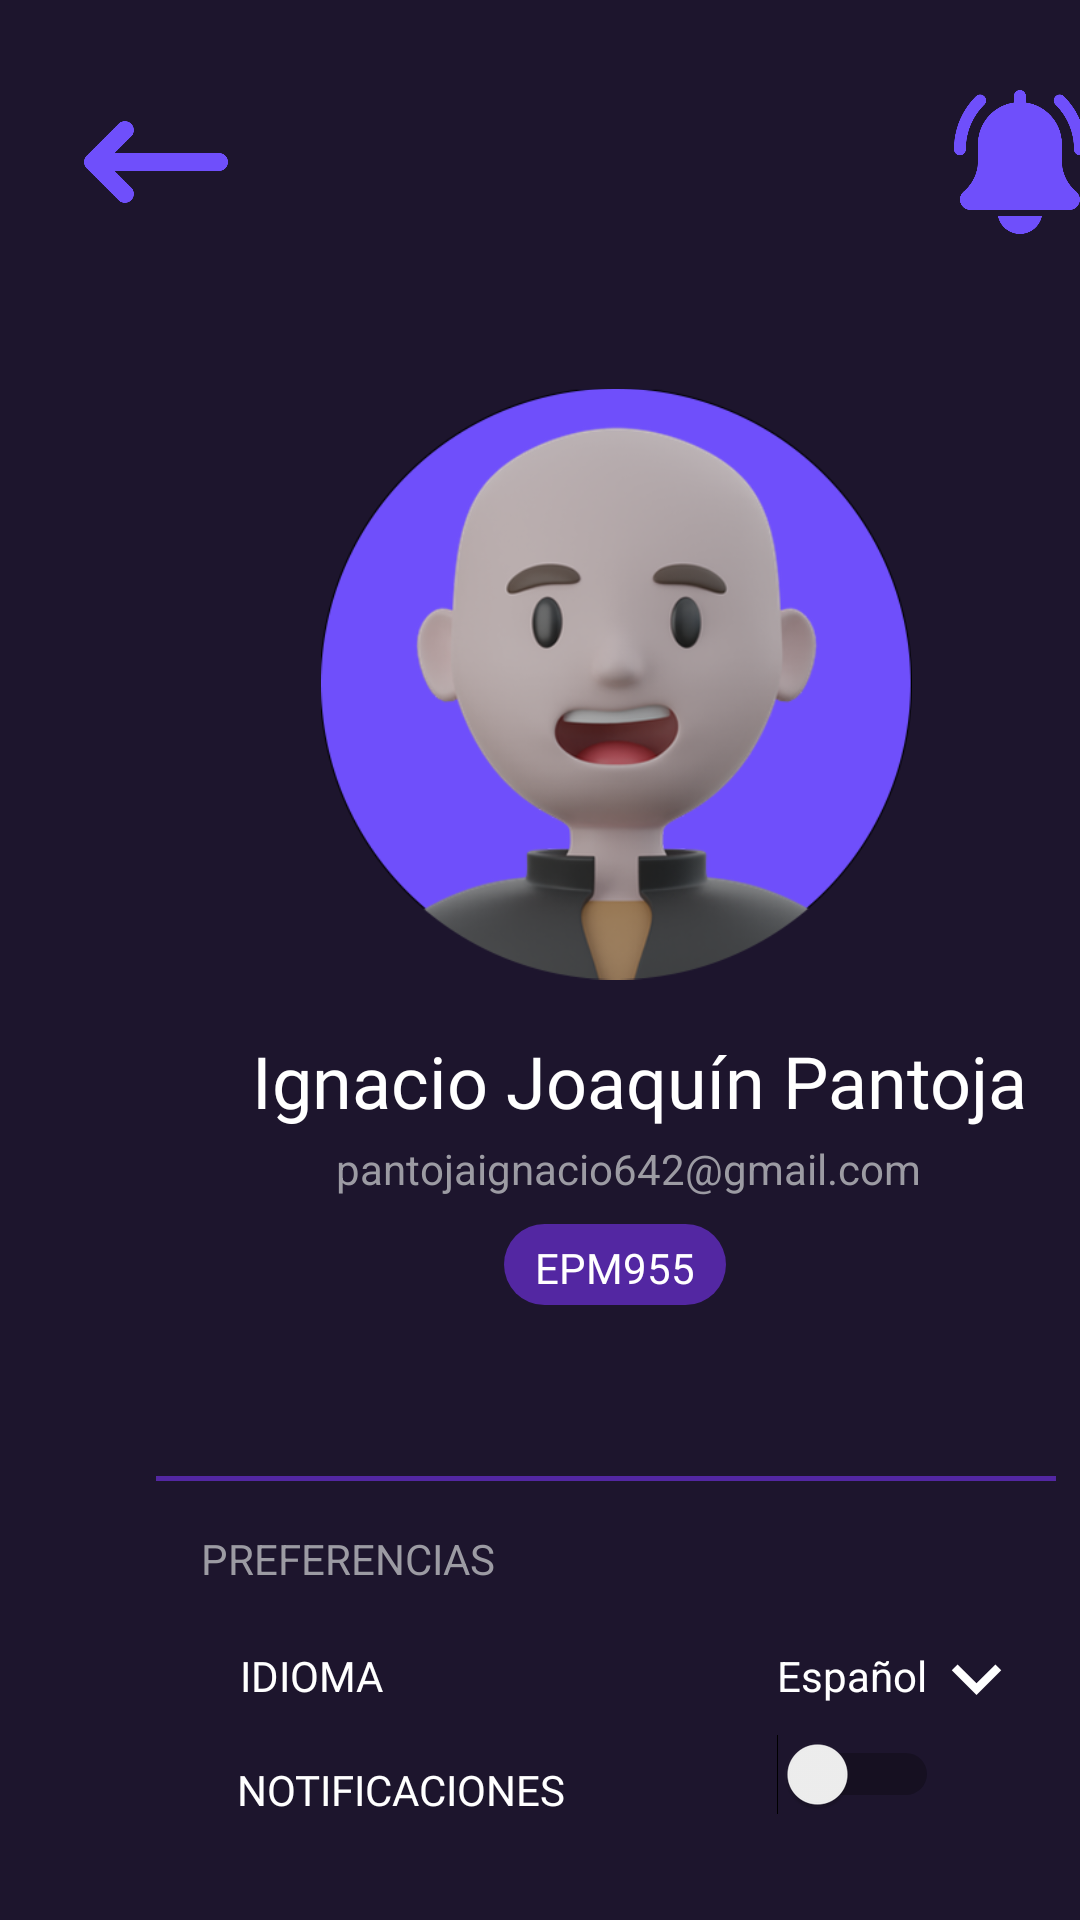

Named icons in this screenshot (1080w x 1920h) and their centers, point (x, y):
arrow down: point (976, 1679)
campana: point (1017, 162)
left arrow: point (156, 162)
